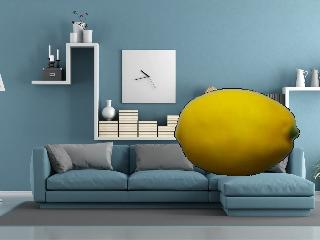lemon: (175, 89, 302, 177)
